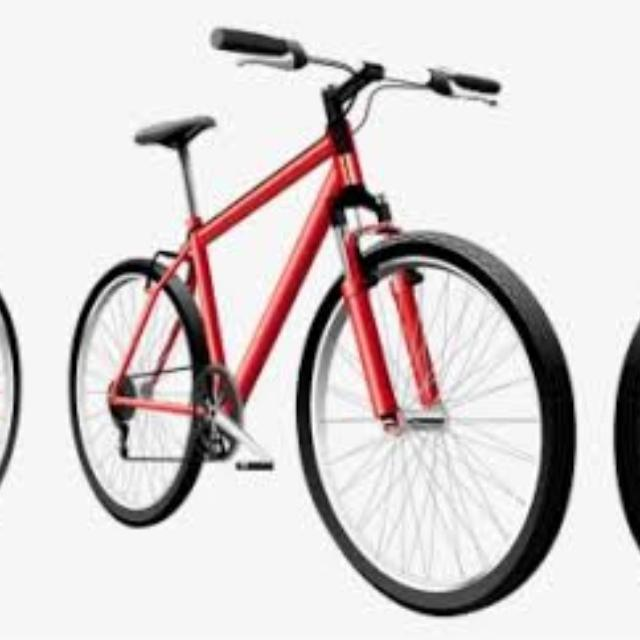obstacle: (76, 8, 574, 630), (614, 8, 640, 630), (0, 8, 11, 630)
